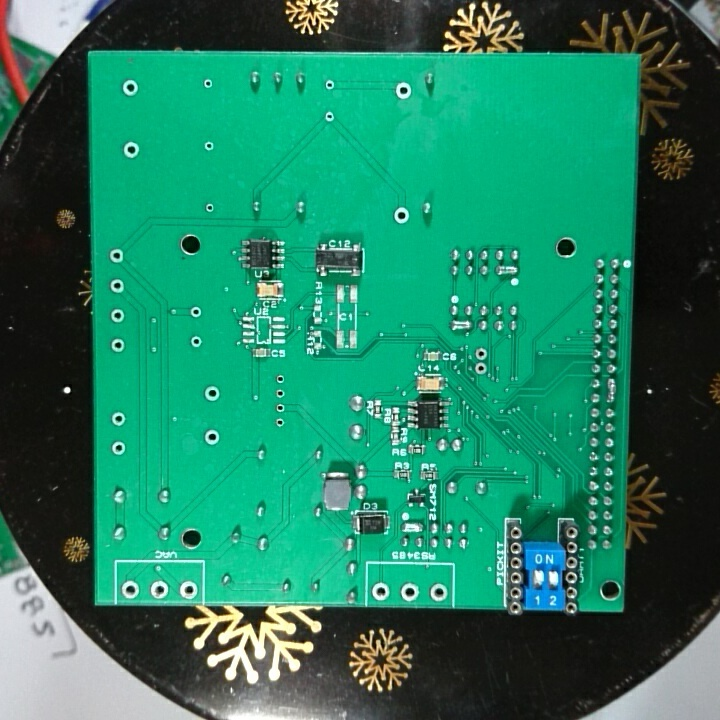F: (426, 580, 450, 605), (369, 580, 393, 603), (175, 578, 199, 601), (391, 204, 414, 227), (398, 581, 421, 603), (120, 139, 142, 161), (118, 78, 142, 98), (148, 578, 169, 600), (106, 244, 126, 267), (394, 79, 414, 102), (108, 409, 128, 430), (203, 426, 221, 449), (119, 580, 140, 599), (107, 277, 126, 296), (110, 440, 128, 460), (202, 384, 220, 403), (108, 307, 126, 326), (109, 335, 125, 356), (187, 302, 204, 320), (188, 333, 204, 351), (321, 109, 339, 124), (473, 346, 490, 361), (322, 77, 337, 94), (472, 360, 488, 375), (202, 138, 217, 154), (202, 200, 217, 215), (200, 75, 214, 91), (274, 372, 288, 386), (274, 386, 288, 400), (274, 400, 287, 415), (274, 415, 286, 429)
P: (399, 520, 427, 536), (448, 317, 473, 334), (492, 263, 520, 278), (605, 376, 619, 404)
